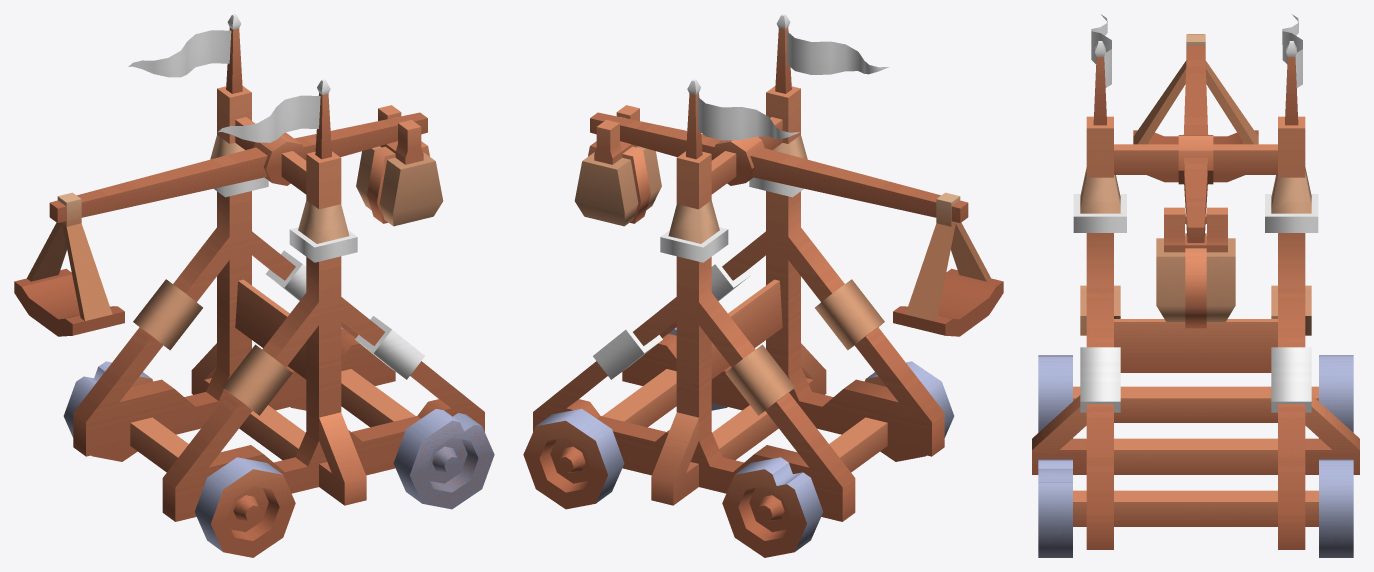
Rendered from unit_siege_trebuchet.glb.
3 views of the same model, side by side, from view 1: azimuth 30°, elevation 25°; view 2: azimuth 150°, elevation 25°; view 3: azimuth 270°, elevation 25° (orthographic). The views are drawn at different scales.
Parts seen in each view (by area): view 1: siege-trebuchet, wheel (×3), catapult (×2), arm, weight (×2); view 2: siege-trebuchet, wheel (×3), catapult (×2), arm, weight (×2); view 3: siege-trebuchet, wheel (×4), weight (×2), arm, catapult (×2).
Boxes of the visible parts, x1,y1,x2,y2 form: siege-trebuchet: (73,14,484,521); wheel (×3): (63,361,494,557); catapult (×2): (14,192,124,336); arm: (49,112,427,222); weight (×2): (356,105,443,226); siege-trebuchet: (533,14,944,521); wheel (×3): (523,361,954,557); catapult (×2): (893,192,1003,336); arm: (590,112,968,222); weight (×2): (574,105,661,226); siege-trebuchet: (1032,14,1359,549); wheel (×4): (1038,355,1353,557); weight (×2): (1156,207,1235,328); arm: (1178,34,1213,242); catapult (×2): (1133,34,1258,182).
Bounding box in the file's own units: 1.85 × 1.96 × 1.26.
Materials: 2 (2 with a texture image).
